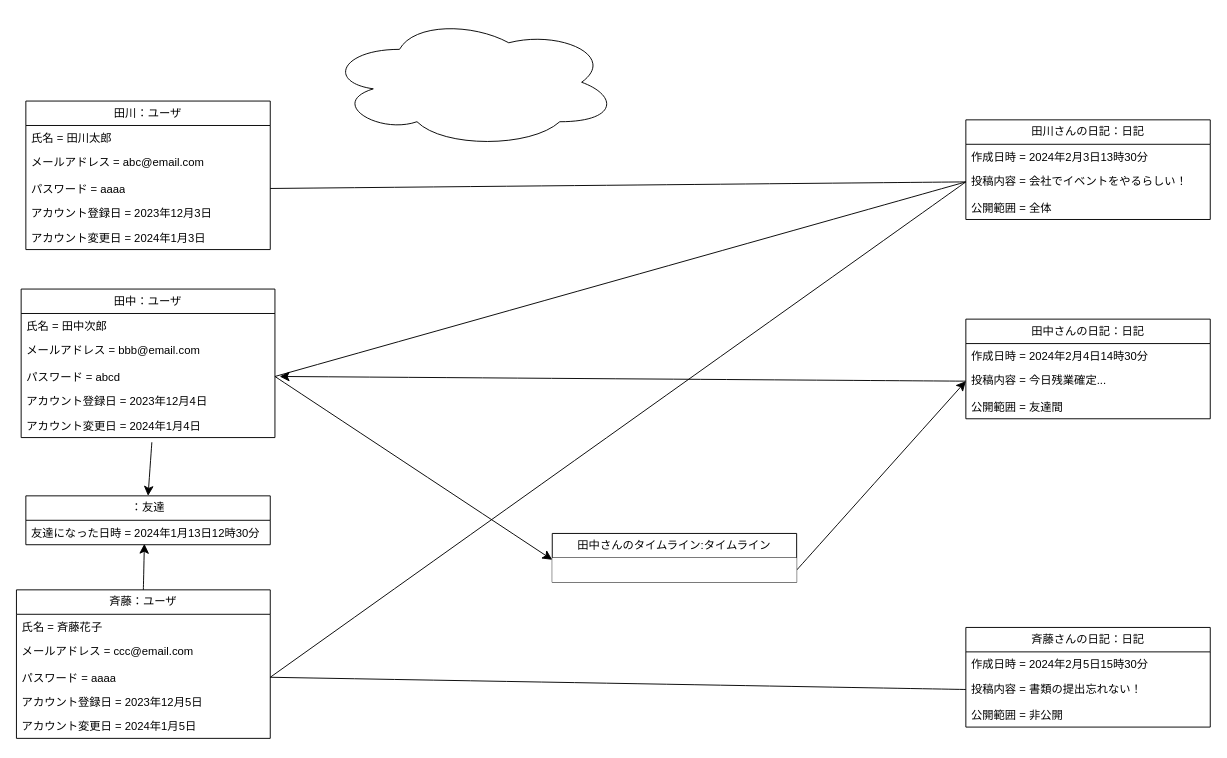
Some shapes in this 1227 by 758 pixel diagram are drawn without their labels. The centre of each missing label's shape, as x and y in pixels:
"作成中" belongs at point 472,82.
"閲覧範囲 = 友達間" belongs at point 674,569.
